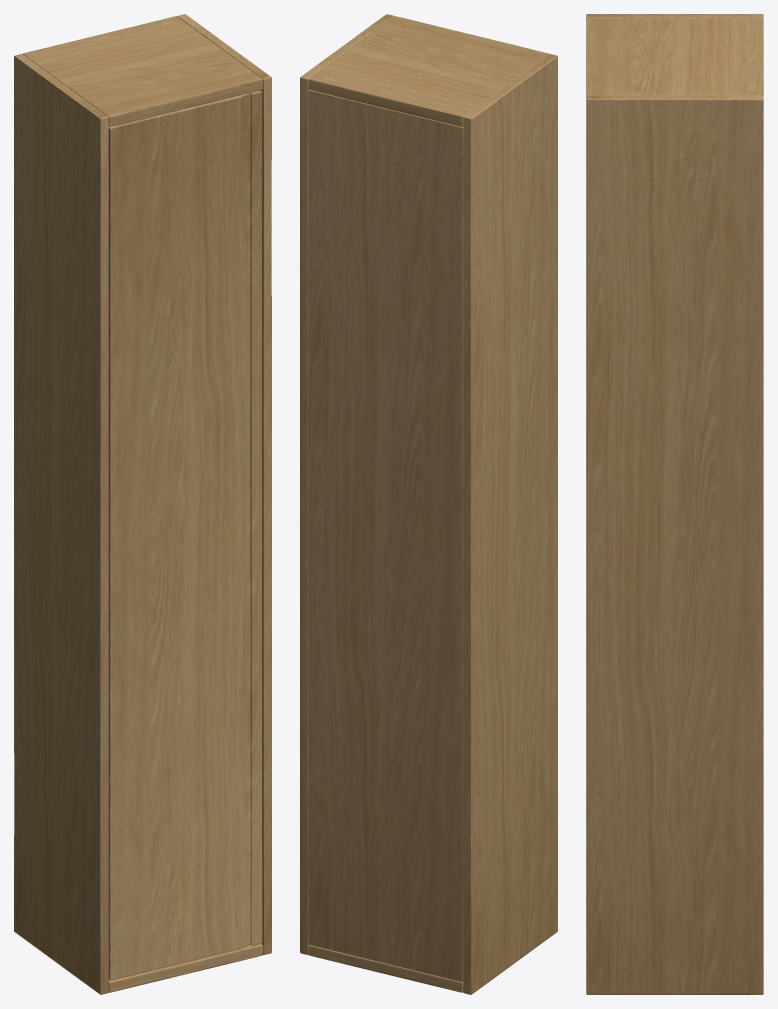
Rendered from 08 - ÄNGSJÖN - 附門高櫃, 橡木紋, 40x35x195 公分 IKEA 線上購物.glb.
3 views of the same model, side by side, from view 1: azimuth 30°, elevation 25°; view 2: azimuth 150°, elevation 25°; view 3: azimuth 270°, elevation 25° (orthographic). The views are drawn at different scales.
Parts seen in each view (by area): view 1: Box004; view 2: Box004; view 3: Box004.
Boxes of the visible parts, <box> form: Box004: <box>14,14,271,994</box>; Box004: <box>300,14,557,994</box>; Box004: <box>586,14,763,994</box>.
Bounding box in the file's own units: 0.4 × 1.95 × 0.3501.
1 material, 1 textured.
